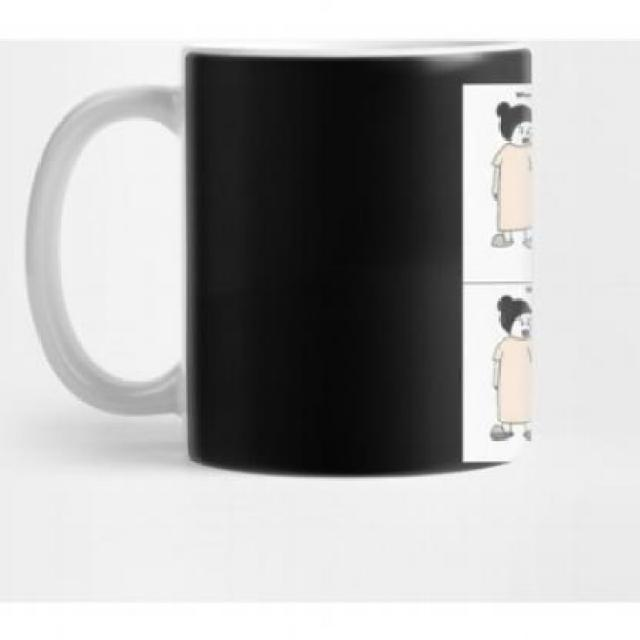taza: (16, 23, 554, 491)
